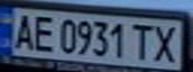0: (54, 16, 78, 55)
1: (106, 19, 130, 60)
3: (90, 18, 112, 57)
9: (72, 18, 93, 56)
A: (9, 10, 39, 51)
E: (30, 11, 57, 53)
T: (127, 20, 157, 61)
X: (148, 21, 184, 64)
